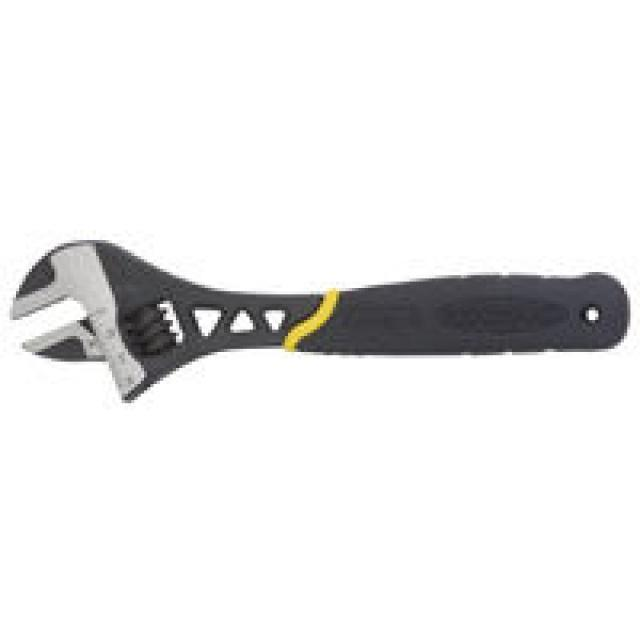wrench: (5, 235, 640, 408)
